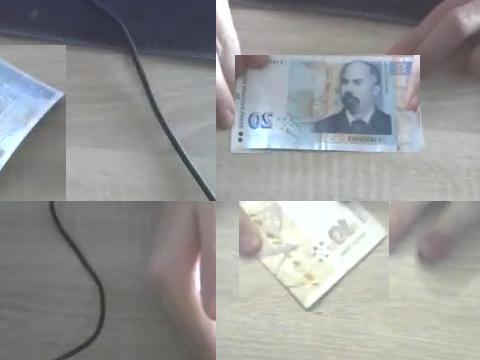10leva: (239, 201, 389, 312)
20leva: (235, 55, 420, 152), (0, 56, 66, 174)
